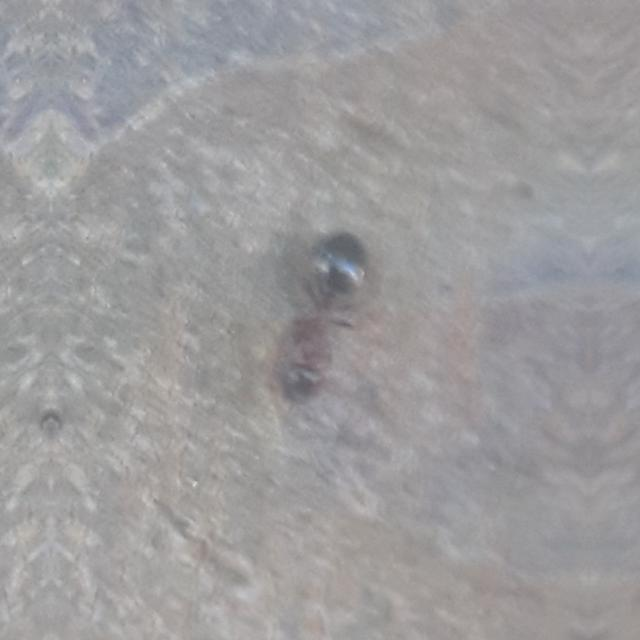Dolichoderus: (225, 199, 398, 431)
